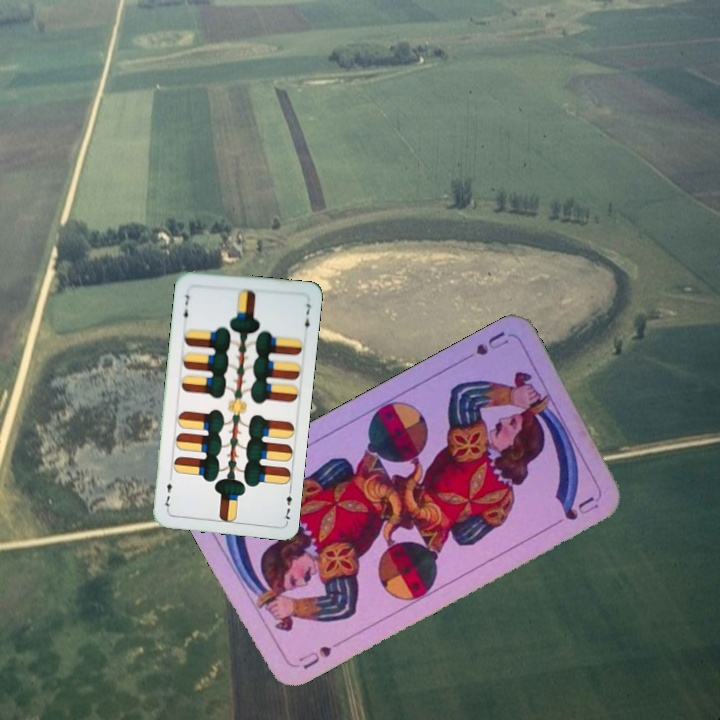E7: (279, 484, 294, 524), (179, 290, 192, 324)
SU: (456, 327, 512, 365), (294, 636, 346, 672)
